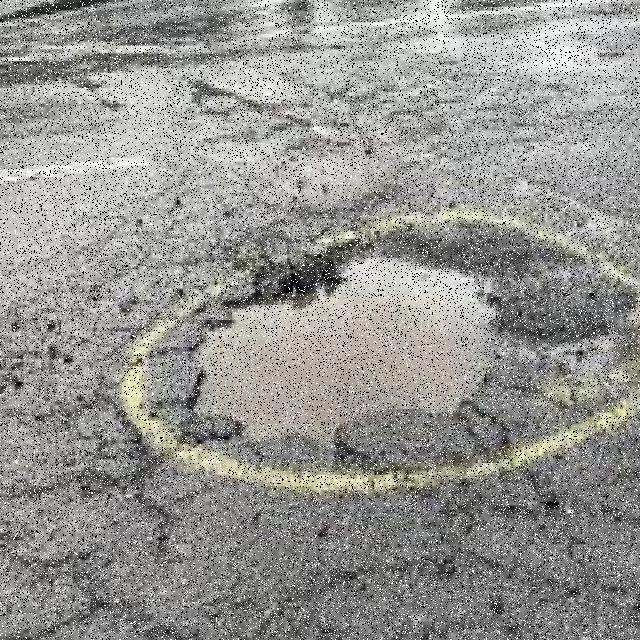pothole: (122, 250, 533, 482)
